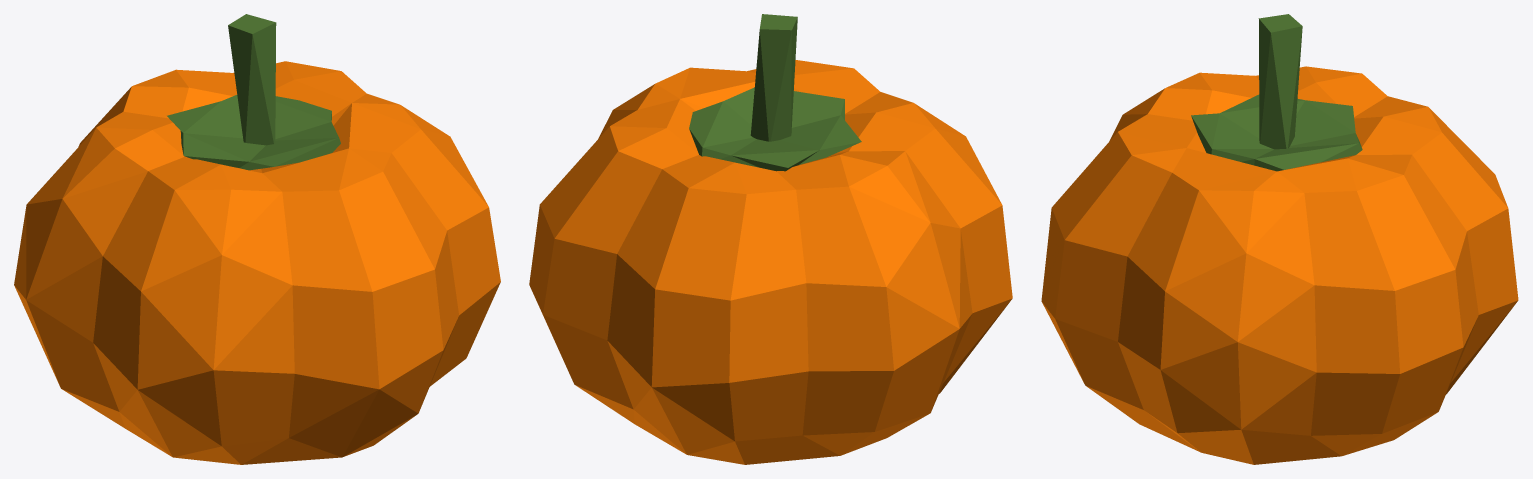
Rendered from Pumpkin.fbx.
3 renders of one model, left to right at view 1: azimuth 30°, elevation 25°; view 2: azimuth 150°, elevation 25°; view 3: azimuth 270°, elevation 25°, orthographic.
Visible parts, largest first — view 1: Pumpkin; view 2: Pumpkin; view 3: Pumpkin.
Boxes of the visible parts, bbox=[...] form: Pumpkin: bbox=[14, 14, 500, 464]; Pumpkin: bbox=[529, 14, 1012, 464]; Pumpkin: bbox=[1041, 14, 1518, 464].
Size of the model in its own units: 42.13 by 38.11 by 42.33.
